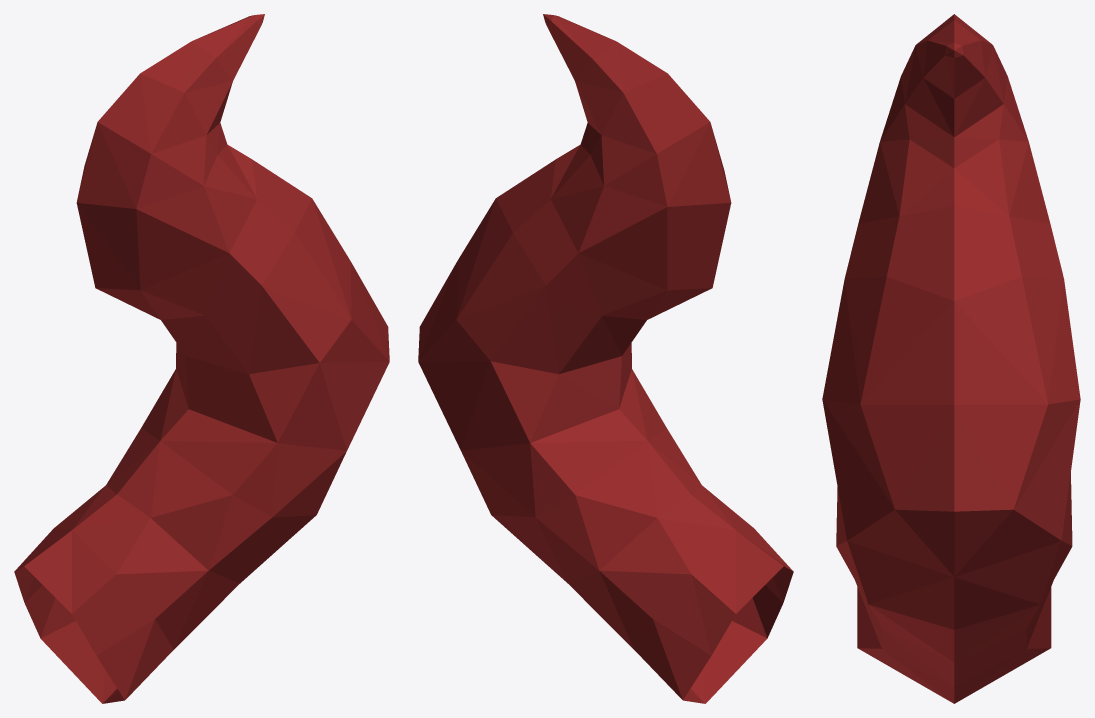
Rendered from mod_wuqi_jiao_02.FBX.
3 renders of one model, left to right at view 1: azimuth 30°, elevation 25°; view 2: azimuth 150°, elevation 25°; view 3: azimuth 270°, elevation 25°, orthographic. The views are drawn at different scales.
Visible parts, largest first — view 1: wuqi 003; view 2: wuqi 003; view 3: wuqi 003.
Part boxes in pixels (x1,y1,x2,y2): wuqi 003: (14,14,389,703); wuqi 003: (418,14,793,703); wuqi 003: (822,14,1080,703).
Bounding box in the file's own units: 30.64 × 52.43 × 16.45.
